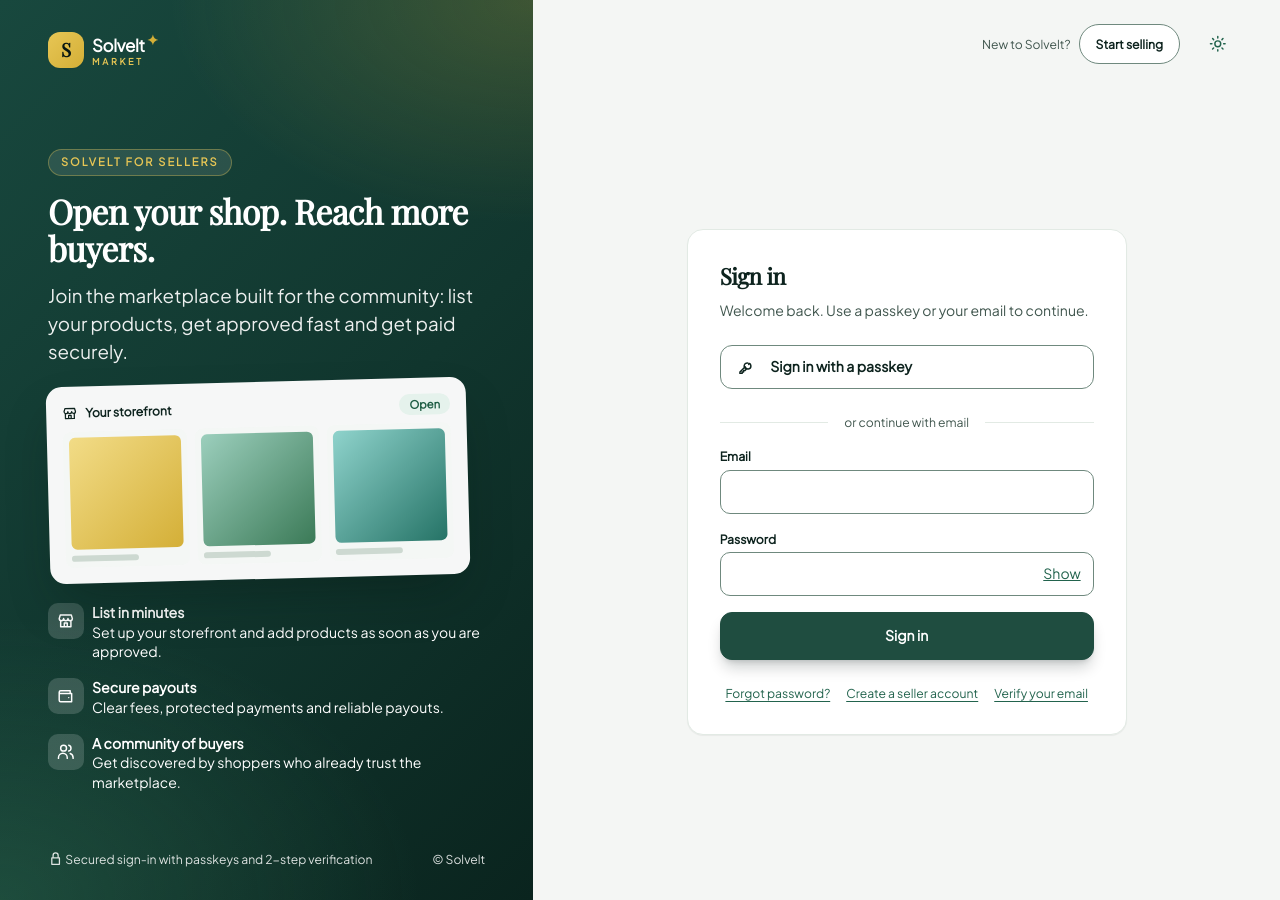
Test case: login errors, lockout hints and captcha › shows "Login failed" with the attempts hint from the separate field
Type "seller@example.com" into the field labelled "Email".
click(907, 492); type("seller@example.com")  # box [720,470,1094,514]
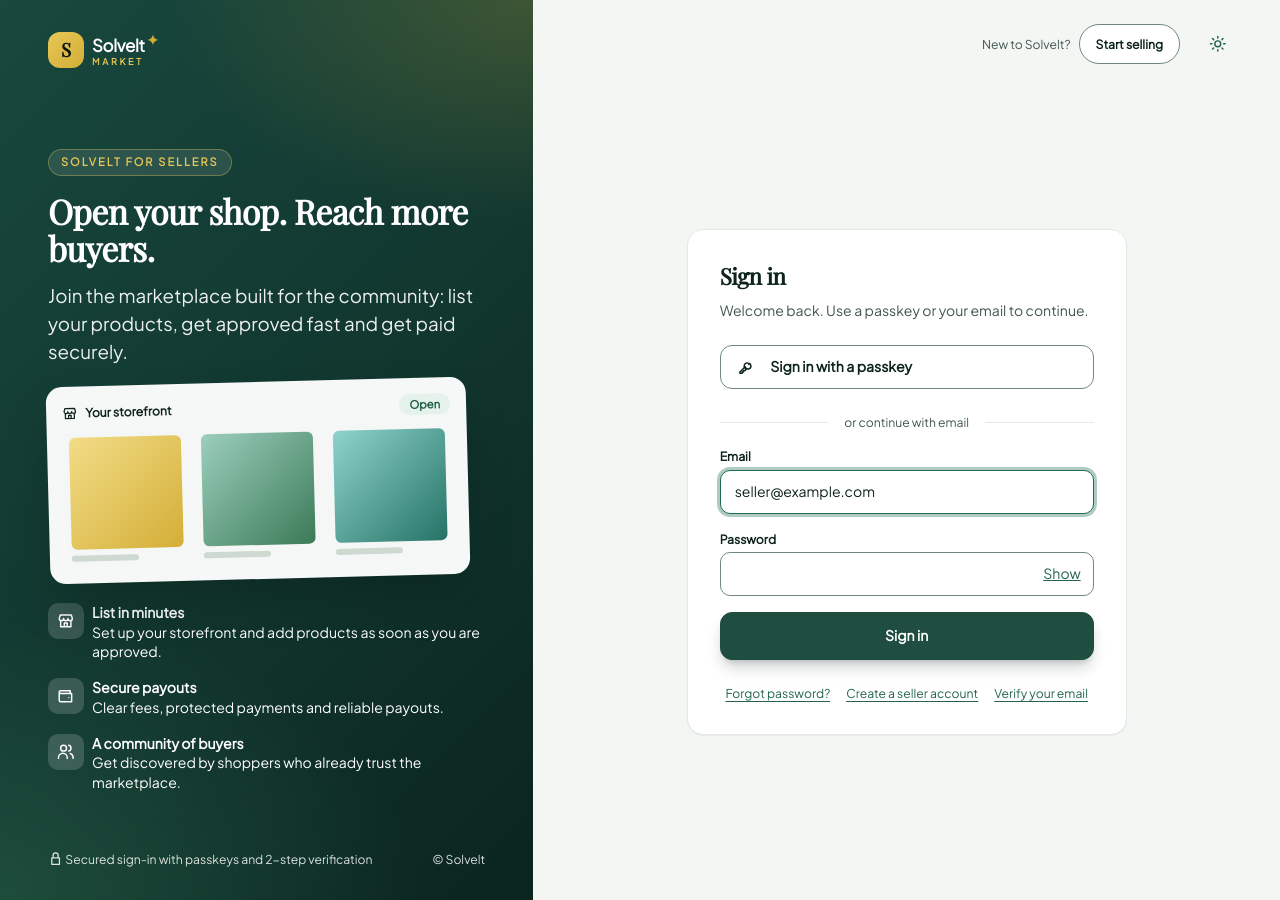
Type "x" into the password field labelled "Password".
click(907, 574); type("x")  # box [720,552,1094,596]
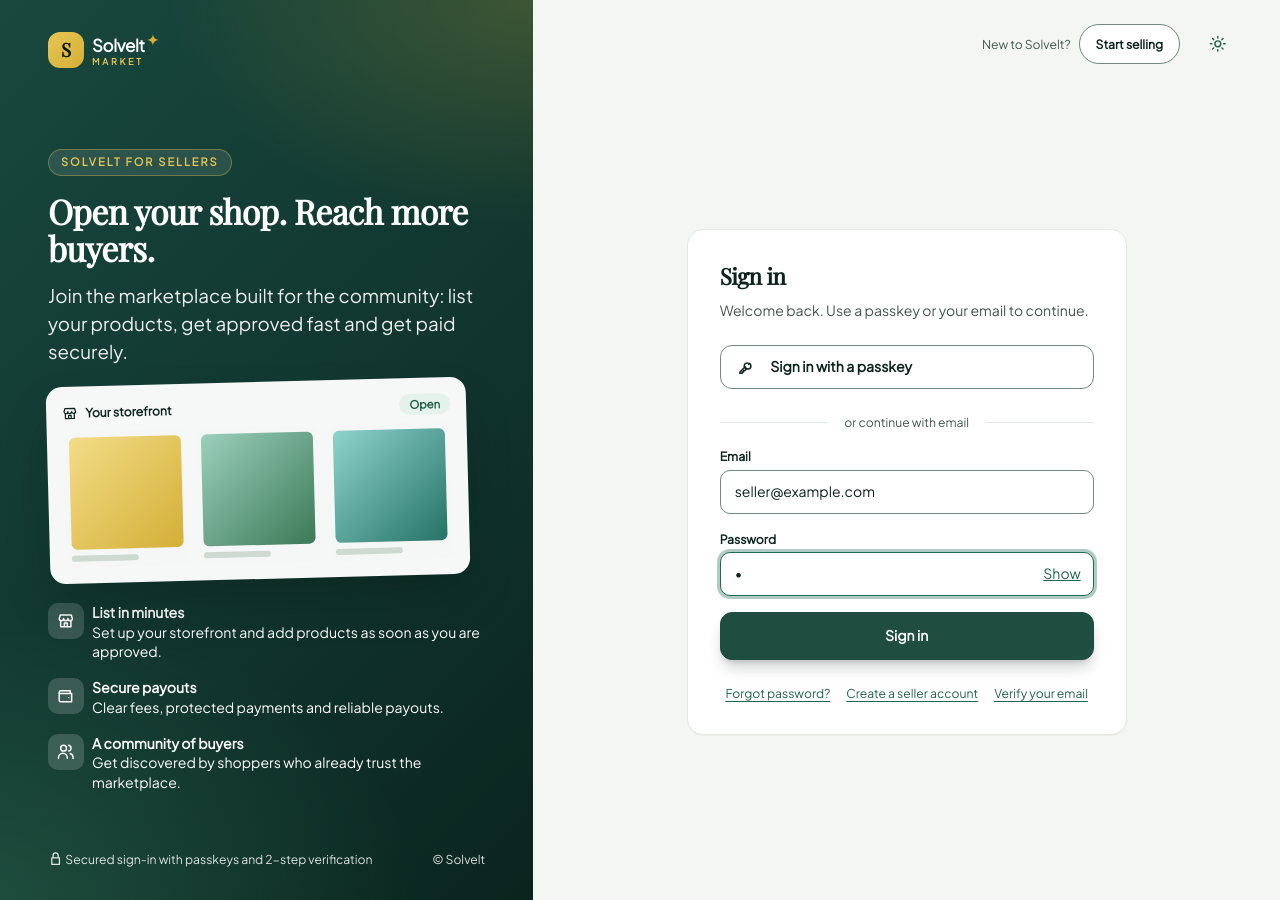
Click the button "Sign in".
click(907, 636)  # box [720,612,1094,660]
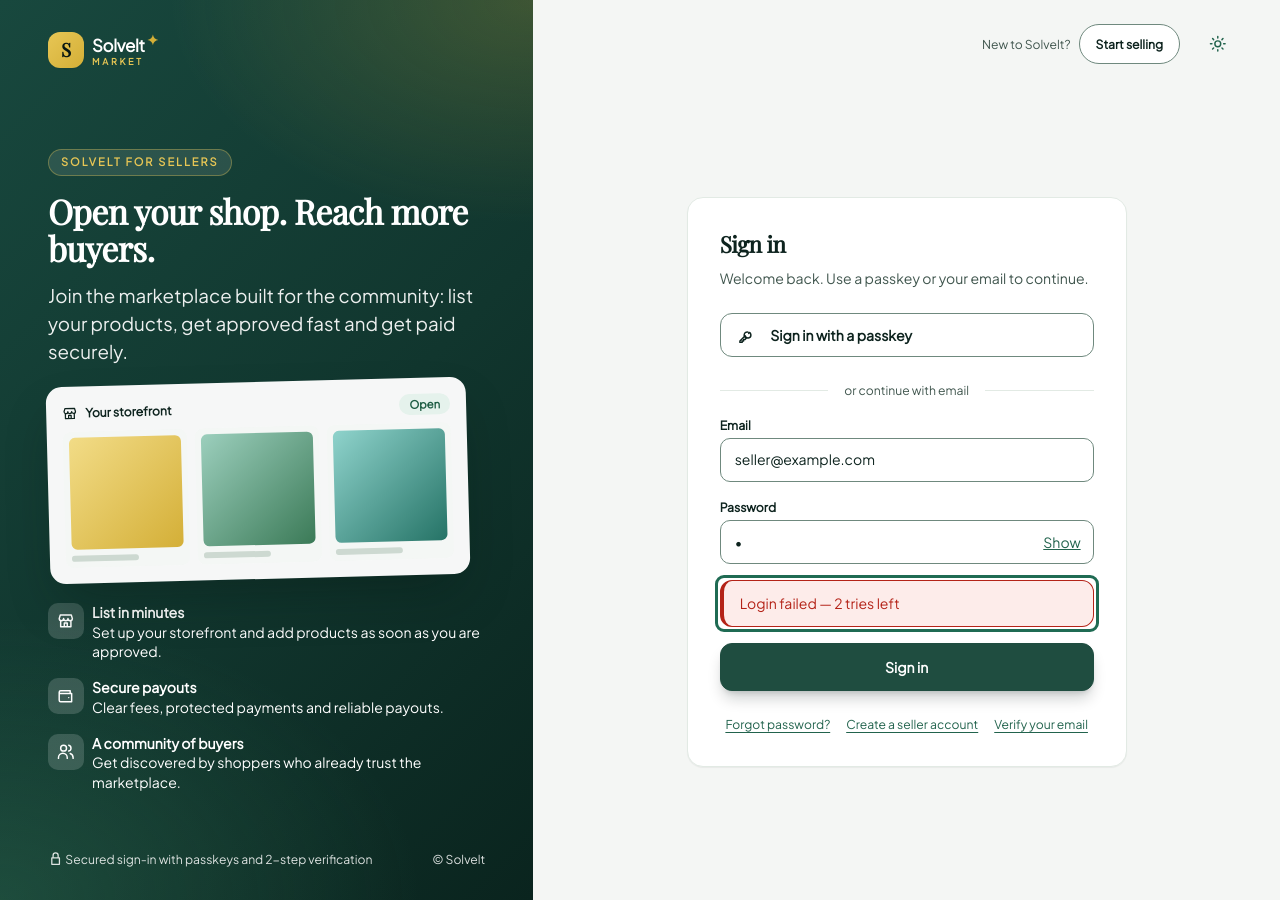
Now the text "Login failed — 2 tries left" is shown, box [720,580,1094,627]
